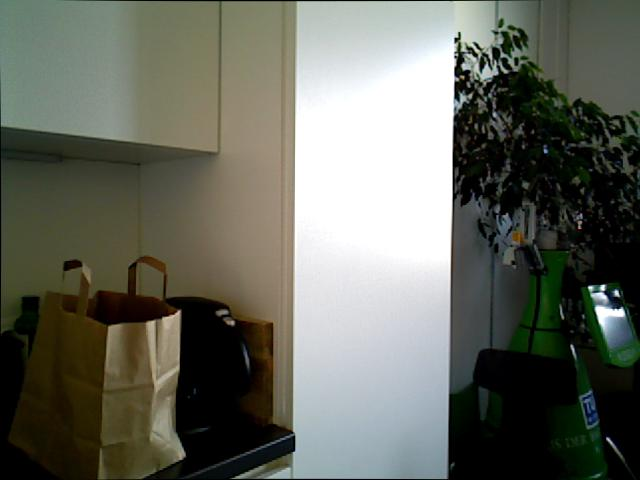bench: (13, 291, 47, 409)
carrot: (456, 11, 640, 267)
hot dog: (292, 0, 454, 479)
skateboard: (4, 254, 187, 480)
